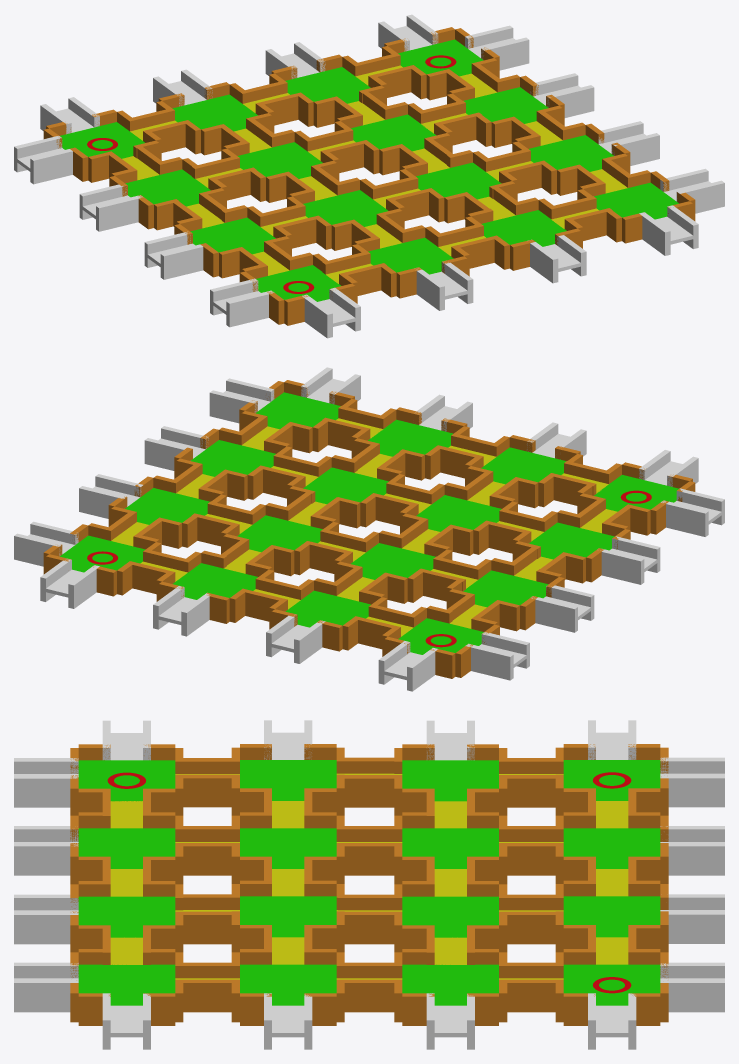
File: Level#7.fbx
3 views of the same model, one above another, from view 1: azimuth 30°, elevation 25°; view 2: azimuth 150°, elevation 25°; view 3: azimuth 270°, elevation 25° (orthographic). The views are drawn at different scales.
Visible parts, largest first — view 1: Cube, Cube.125, Cube.252, Cube.126, Cube.042, Cube.335, Cube.041, Cube.251, Cube.210, Cube.209, Cube.167, Cube.293 (+66 smaller); view 2: Cube.041, Cube.209, Cube.210, Cube.126, Cube.252, Cube, Cube.042, Cube.335, Cube.083, Cube.167, Cube.251, Cube.125 (+68 smaller); view 3: Cube.083, Cube.041, Cube.252, Cube.042, Cube.335, Cube.293, Cube, Cube.251, Cube.125, Cube.209, Cube.167, Cube.126 (+109 smaller).
Part boxes in pixels (left/top/right/bottom): Cube: left=416, top=162, right=501, bottom=199; Cube.125: left=368, top=237, right=453, bottom=274; Cube.252: left=351, top=114, right=436, bottom=151; Cube.126: left=303, top=190, right=388, bottom=226; Cube.042: left=594, top=182, right=678, bottom=219; Cube.335: left=285, top=67, right=370, bottom=103; Cube.041: left=529, top=135, right=613, bottom=171; Cube.251: left=125, top=169, right=210, bottom=206; Cube.210: left=237, top=142, right=322, bottom=178; Cube.209: left=172, top=94, right=257, bottom=131; Cube.167: left=190, top=217, right=275, bottom=254; Cube.293: left=464, top=87, right=548, bottom=123; Cube.041: left=190, top=440, right=275, bottom=476; Cube.209: left=285, top=590, right=370, bottom=627; Cube.210: left=351, top=543, right=435, bottom=579; Cube.126: left=416, top=495, right=501, bottom=531; Cube.252: left=237, top=515, right=322, bottom=552; Cube: left=303, top=467, right=388, bottom=504; Cube.042: left=256, top=392, right=340, bottom=429; Cube.335: left=173, top=563, right=257, bottom=599; Cube.083: left=368, top=419, right=452, bottom=456; Cube.167: left=529, top=522, right=614, bottom=559; Cube.251: left=463, top=570, right=548, bottom=607; Cube.125: left=481, top=447, right=566, bottom=484; Cube.083: left=78, top=896, right=175, bottom=937; Cube.041: left=240, top=964, right=336, bottom=1005; Cube.252: left=402, top=896, right=498, bottom=937; Cube.042: left=78, top=964, right=175, bottom=1005; Cube.335: left=563, top=896, right=660, bottom=937; Cube.293: left=402, top=964, right=498, bottom=1005; Cube: left=240, top=896, right=336, bottom=937; Cube.251: left=402, top=760, right=498, bottom=801; Cube.125: left=78, top=828, right=175, bottom=868; Cube.209: left=563, top=828, right=660, bottom=868; Cube.167: left=240, top=760, right=336, bottom=800; Cube.126: left=240, top=828, right=336, bottom=868.
Bounding box in the file's own units: 4403 × 200 × 4407.
